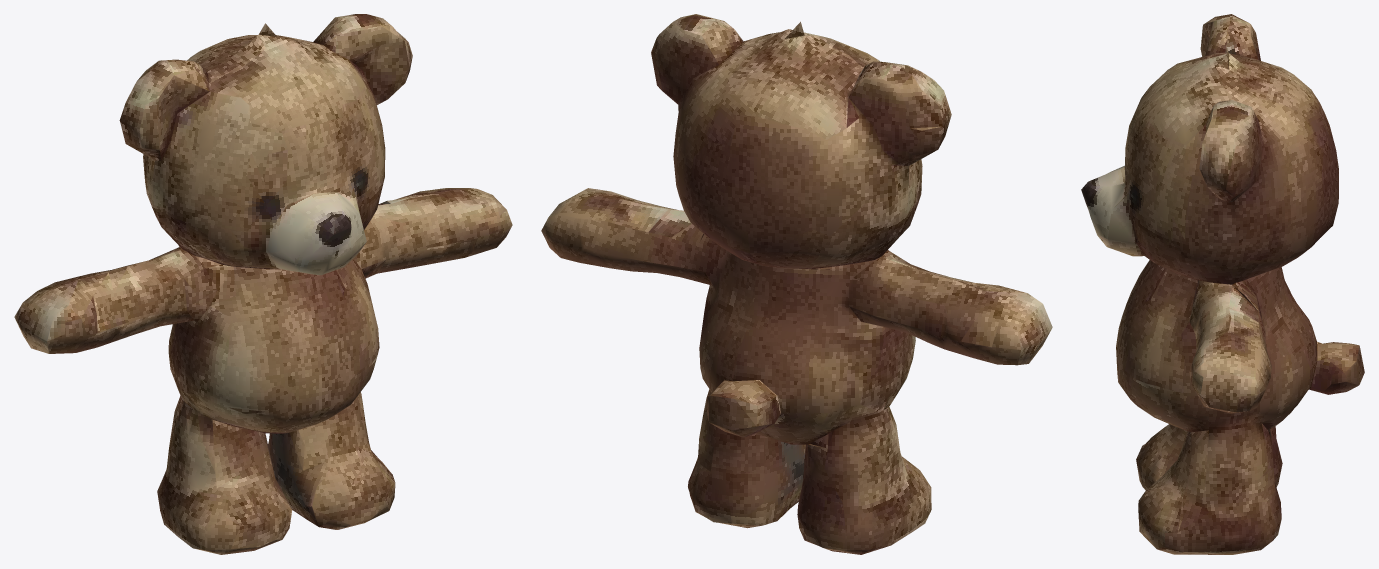
File: gg_teddy.glb
The picture shows the model from 3 angles, left to right: view 1: azimuth 30°, elevation 25°; view 2: azimuth 150°, elevation 25°; view 3: azimuth 270°, elevation 25°; orthographic projection. The views are drawn at different scales.
Parts seen in each view (by area): view 1: mesh; view 2: mesh; view 3: mesh.
Part boxes in pixels (box(x1,y1,x2,y2)): mesh: box(14, 14, 512, 554); mesh: box(541, 14, 1052, 554); mesh: box(1081, 14, 1364, 554).
Bounding box in the file's own units: 0.3054 × 0.3 × 0.1633.
Materials: 1 (1 with a texture image).
